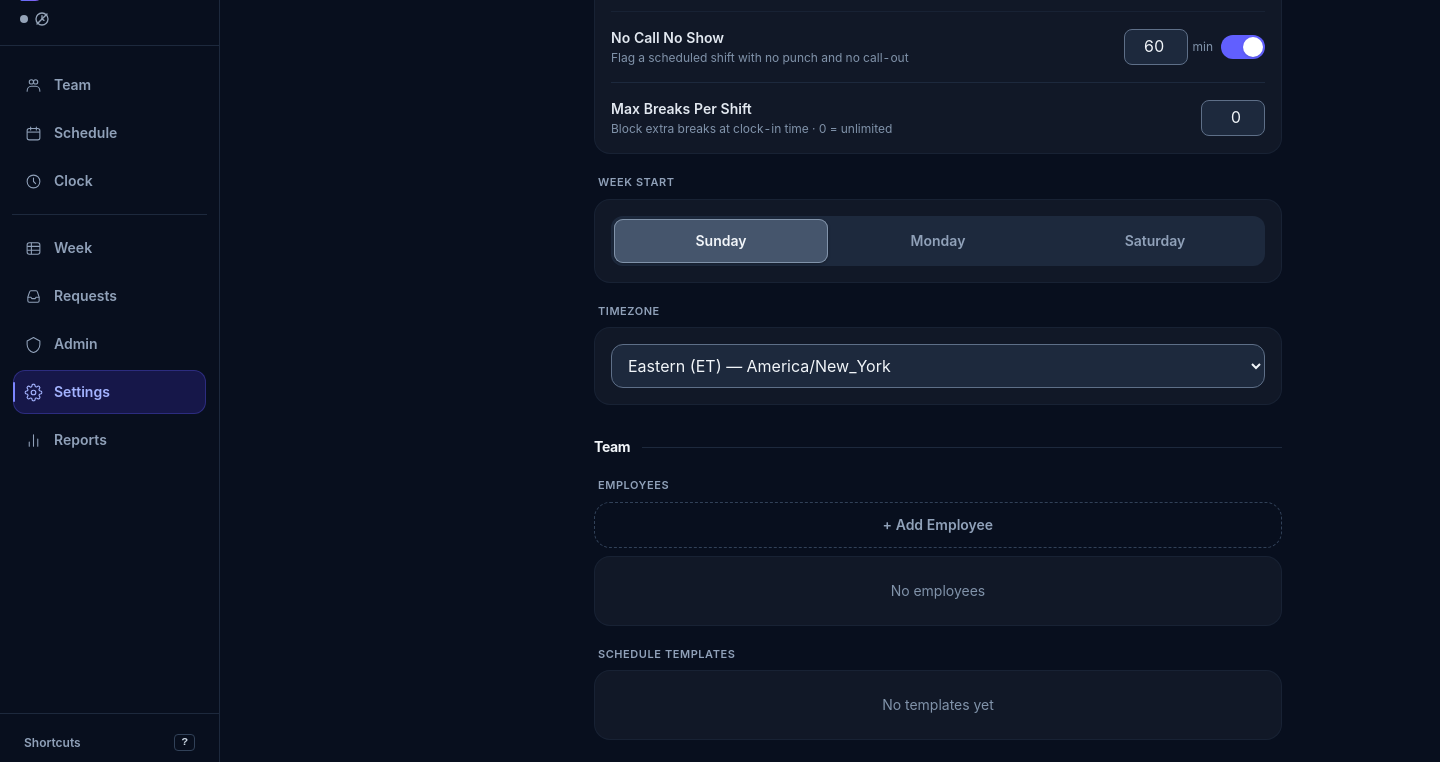
Test: SettingsPageClient — auto-save › Timezone › shows 'Failed to save' when timezone save fails
(page scrolled)
Select "Central (CT) — America/Chicago" in the dropdown named "Timezone" at [938, 366], box [611, 344, 1265, 388]
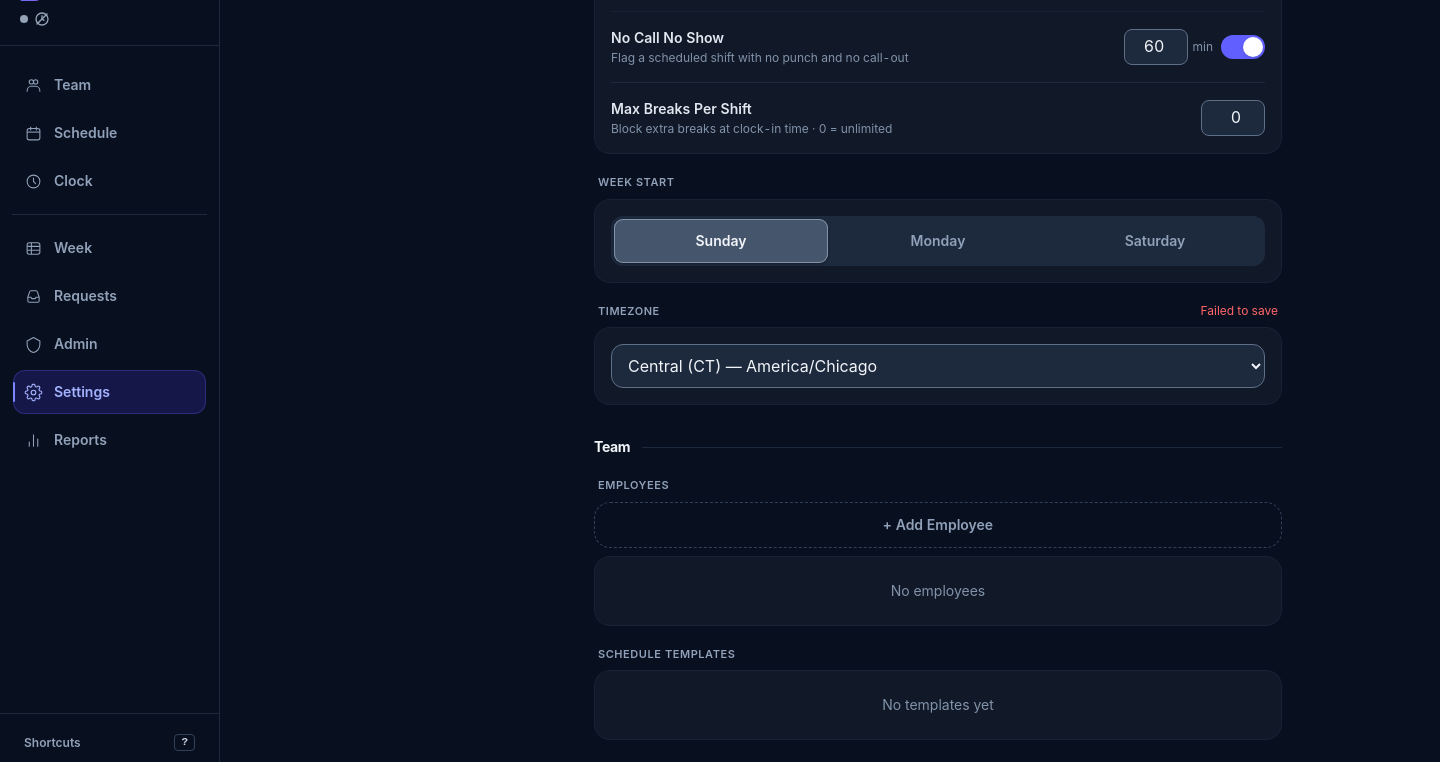
Expected: the element with test id "timezone-status" shows "Failed", [1200, 302, 1278, 318]
